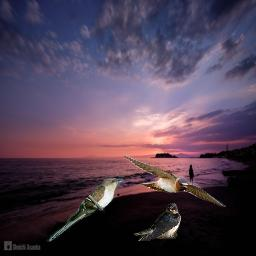Cuckoo: (46, 177, 126, 244)
Swallow: (121, 153, 226, 207), (133, 203, 181, 241)
